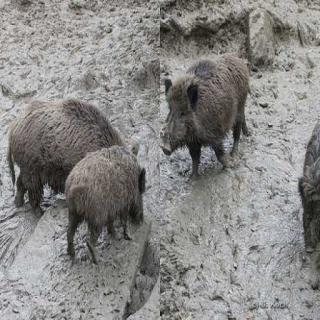Pig: (160, 32, 261, 168), (44, 142, 158, 258), (0, 83, 109, 198)
